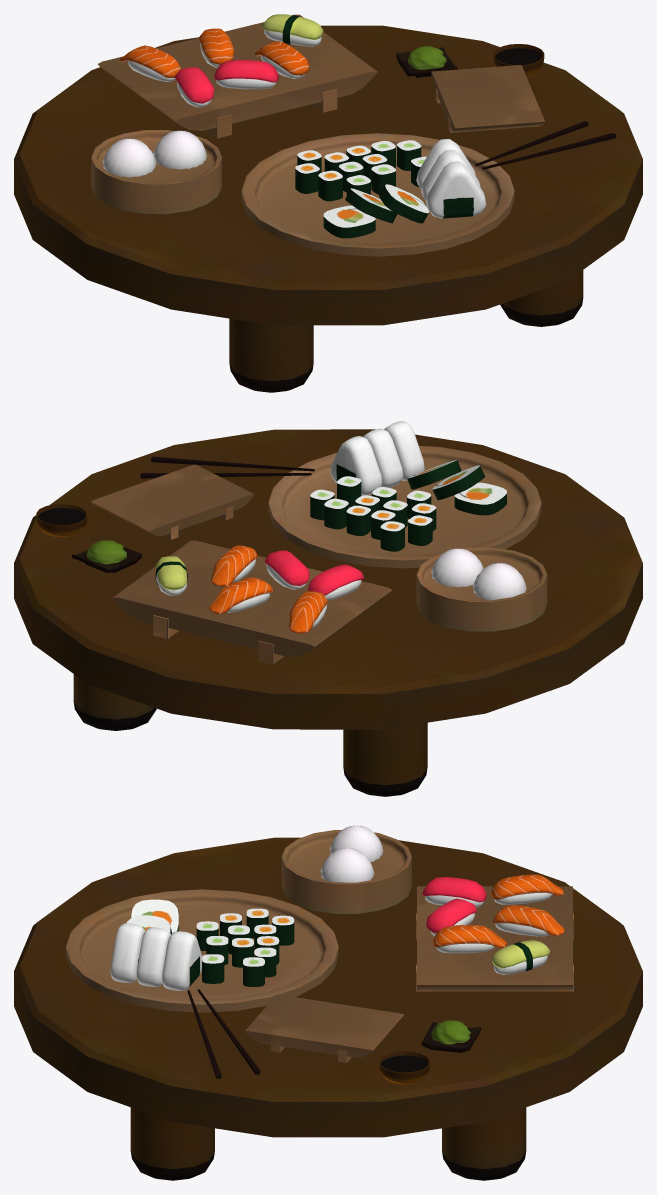
Rendered from foodTable.glb.
The picture shows the model from 3 angles, top to bottom: view 1: azimuth 30°, elevation 25°; view 2: azimuth 150°, elevation 25°; view 3: azimuth 270°, elevation 25°; orthographic projection.
Visible parts, largest first — view 1: Cylinder006; view 2: Cylinder006; view 3: Cylinder006.
Part boxes in pixels (left/top/right/bottom): Cylinder006: left=14, top=14, right=642, bottom=392; Cylinder006: left=14, top=421, right=642, bottom=796; Cylinder006: left=14, top=825, right=642, bottom=1180.
Bounding box in the file's own units: 1.49 × 0.5072 × 1.51.
Materials: 1 (1 with a texture image).
